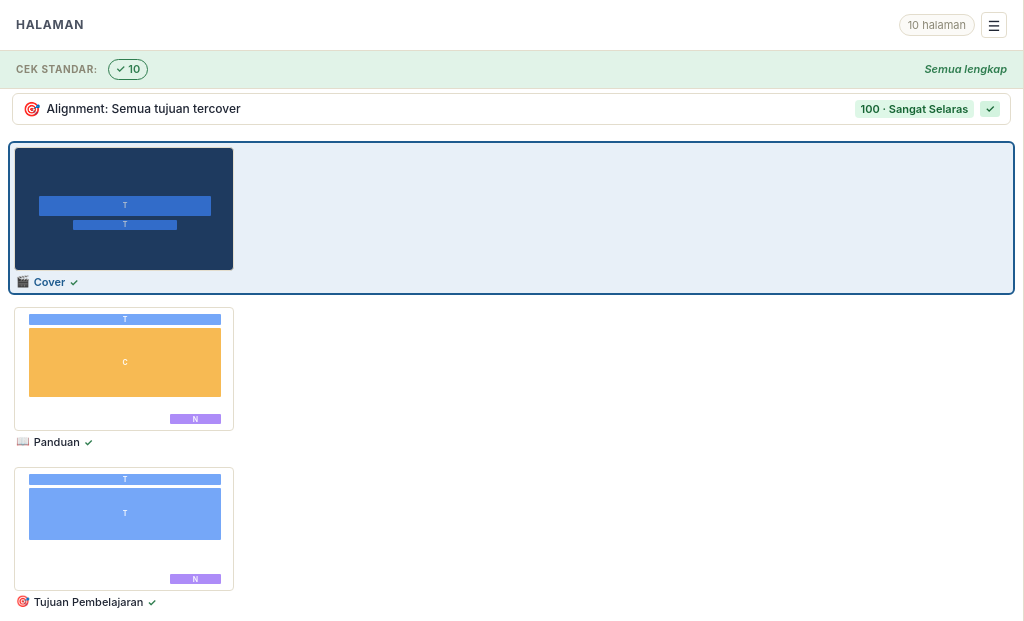
Scenario: UX-01 — PagePanel alur pembelajaran › page item shows friendly role label (not raw role key)
The image size is (1024, 621).
Click the button with test id "page-panel-view-toggle" at point(994, 25), box [981,12,1007,38]
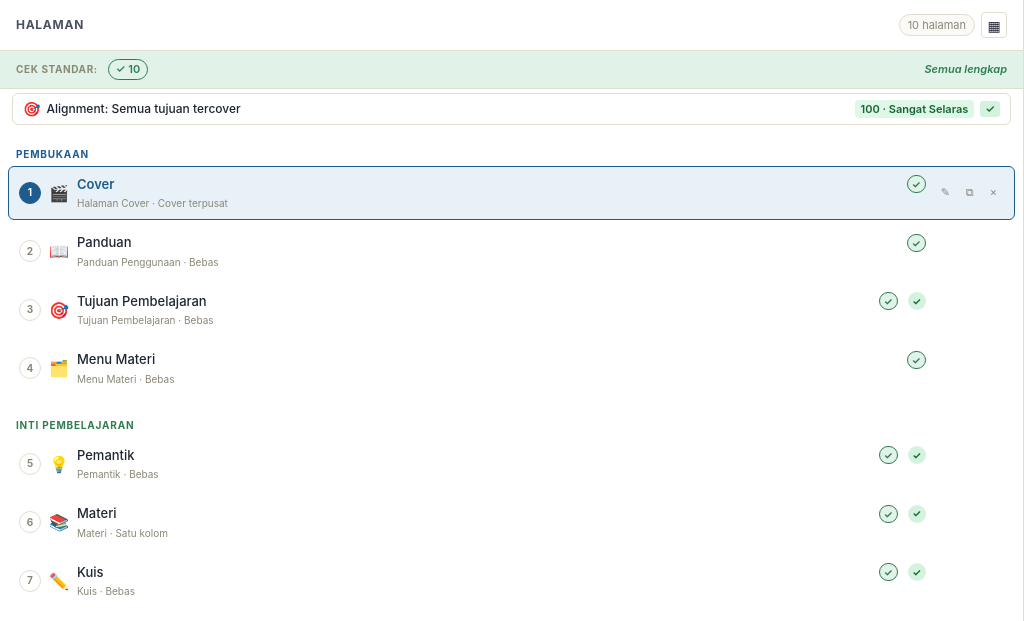
expect the element showing "1 🎬 Cover ✓ Halaman Cover · Cover terpusat ✎ ⧉ ×" is shown: met, box [8,166,1015,220]
